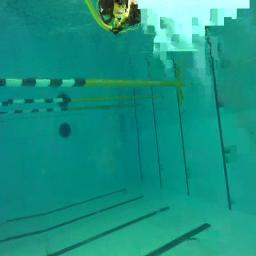back: (96, 0, 142, 37)
